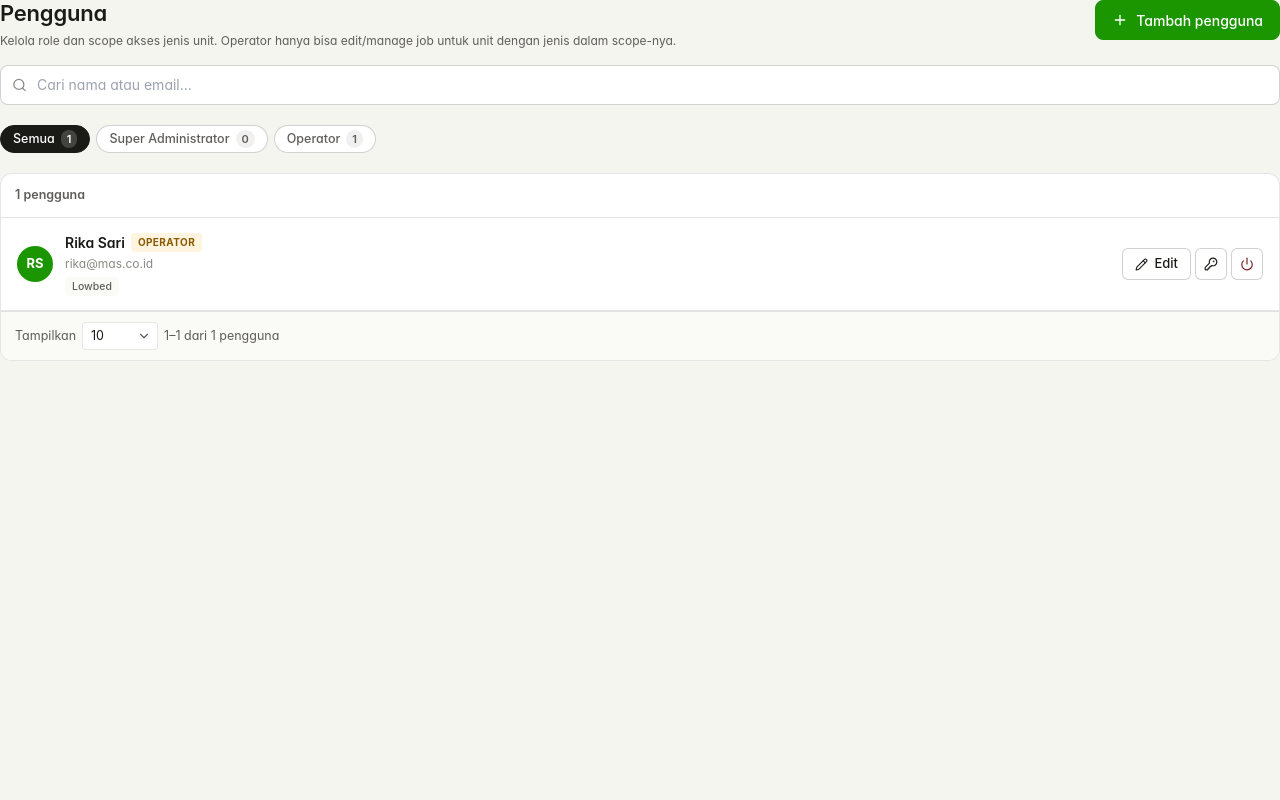
Test: Tambah pengguna — karyawan + role › karyawan + role yang sudah terdaftar → pesan data sudah terdaftar, tidak dikirim
This screenshot has width=1280, height=800.
Click the button "Tambah pengguna". click: (1188,20)
box: [1095,0,1279,40]
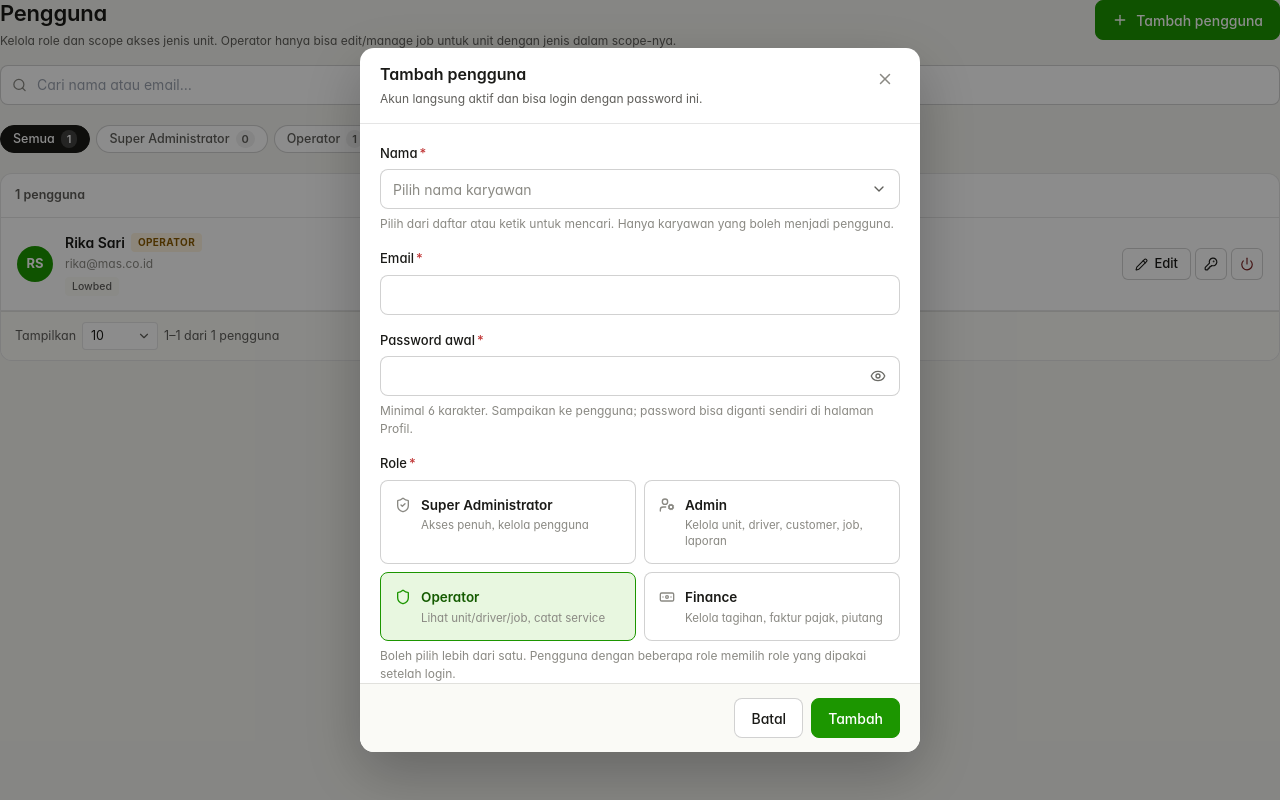
Now the button with class "combobox-trigger" is enabled
Click the button with class "combobox-trigger". click: (462,189)
box: [380,170,900,210]
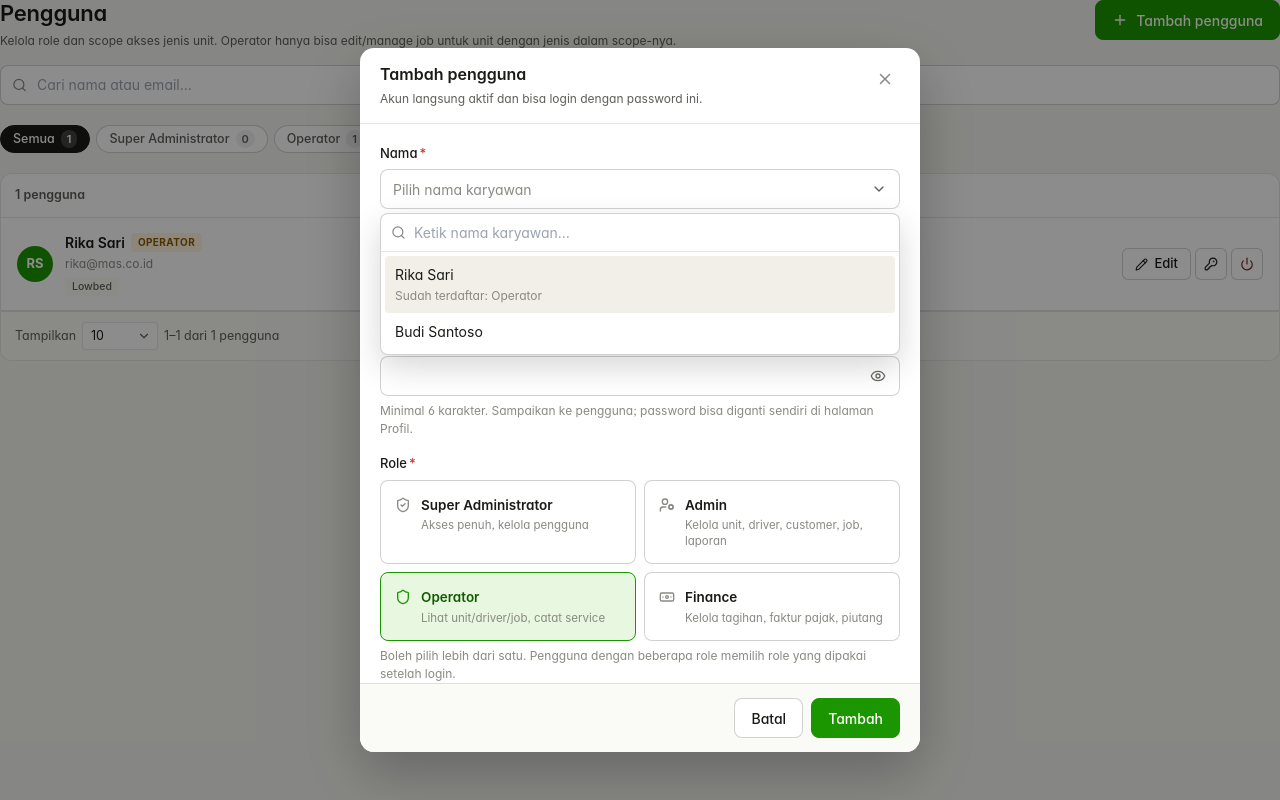
Click the text "Rika Sari". click: (424,275)
box: [395,266,454,284]
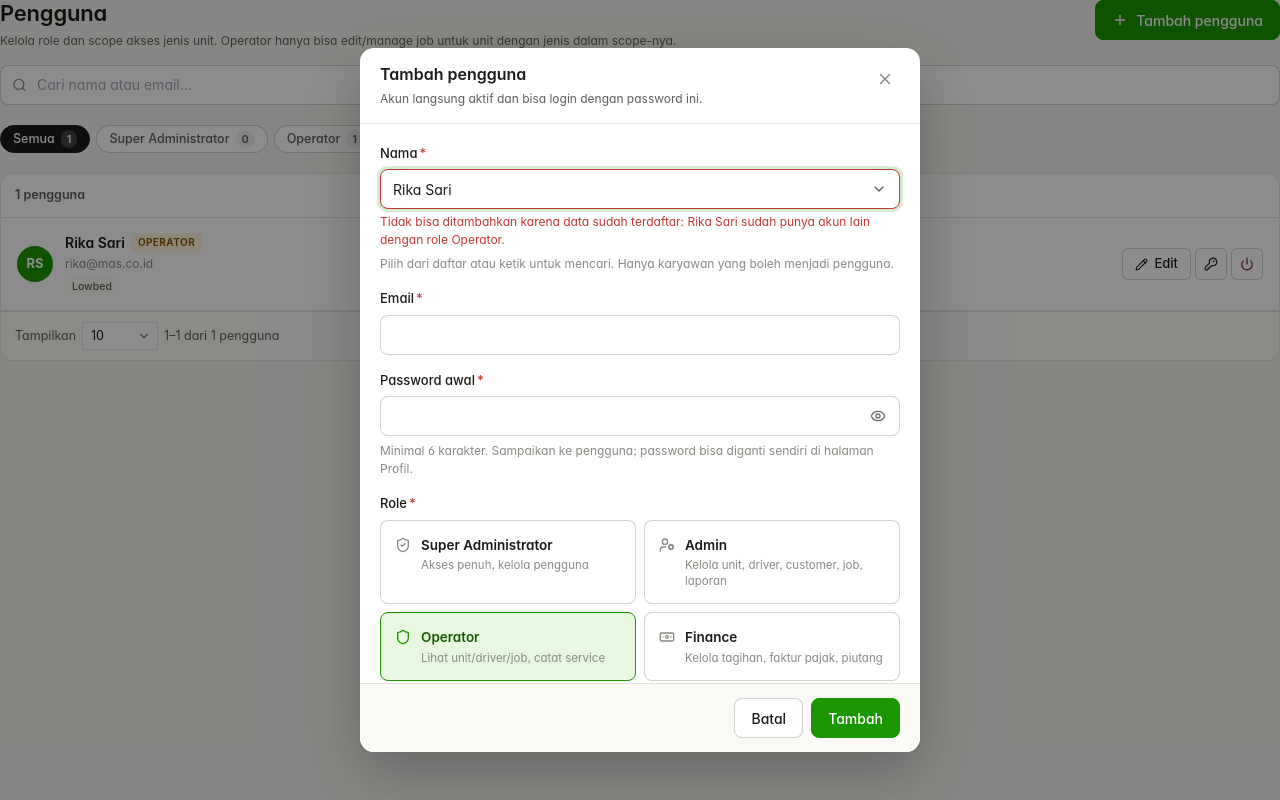
Now the text "Tidak bisa ditambahkan karena data sudah terdaftar" is shown, box [380,214,870,248]
Type "rika2@mas.co.id" into the field. click: (640,335)
box: [380,315,900,355]
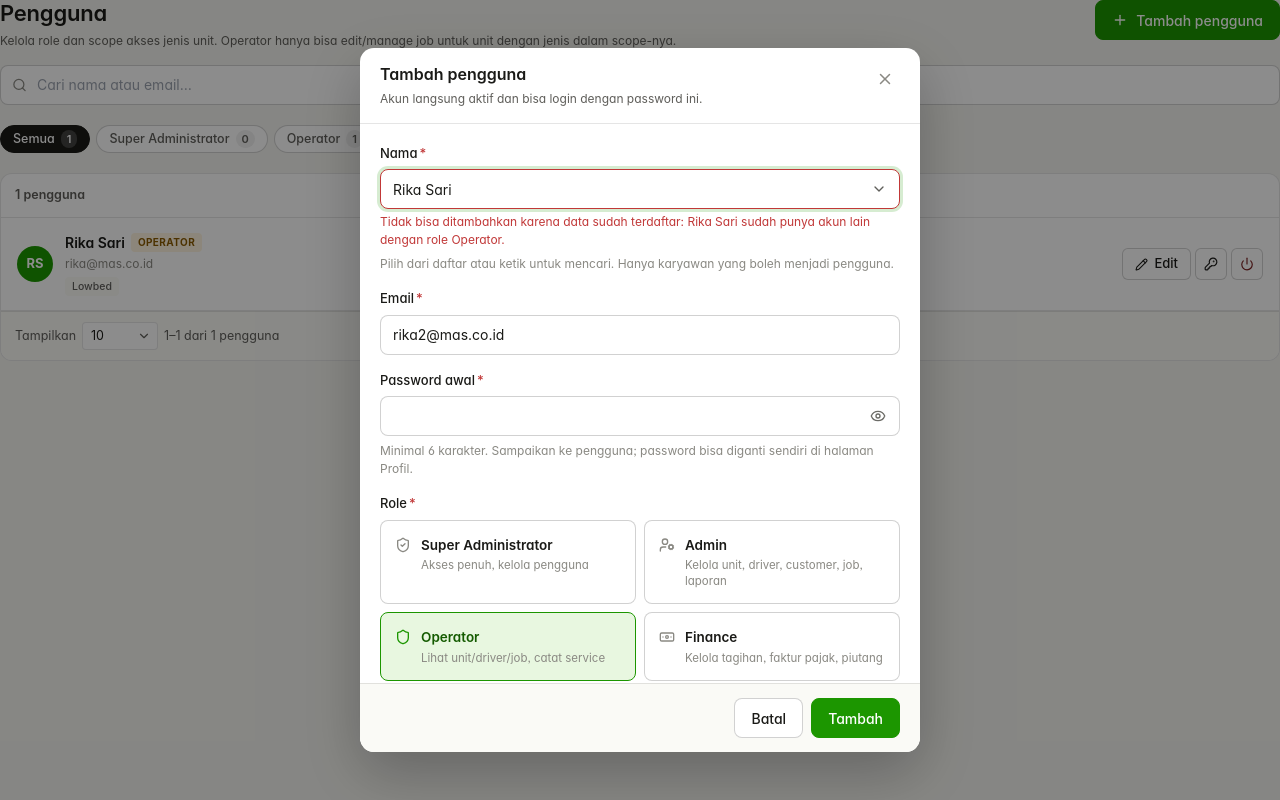
Click the button "Tambah". click: (856,718)
box: [811,698,900,738]
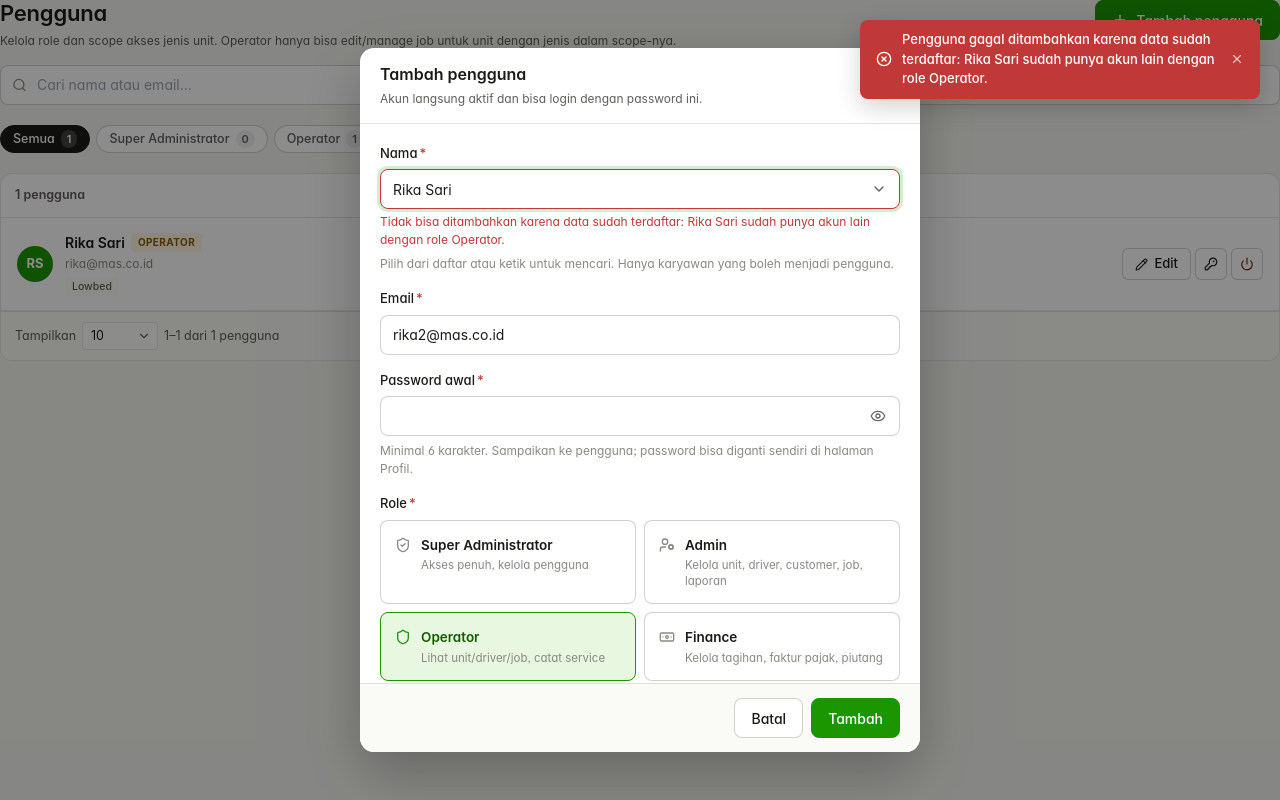
Now the text "Pengguna gagal ditambahkan karena data sudah terdaftar: Rika Sari sudah punya akun lain dengan role Operator." is shown, box [902,31,1215,86]
